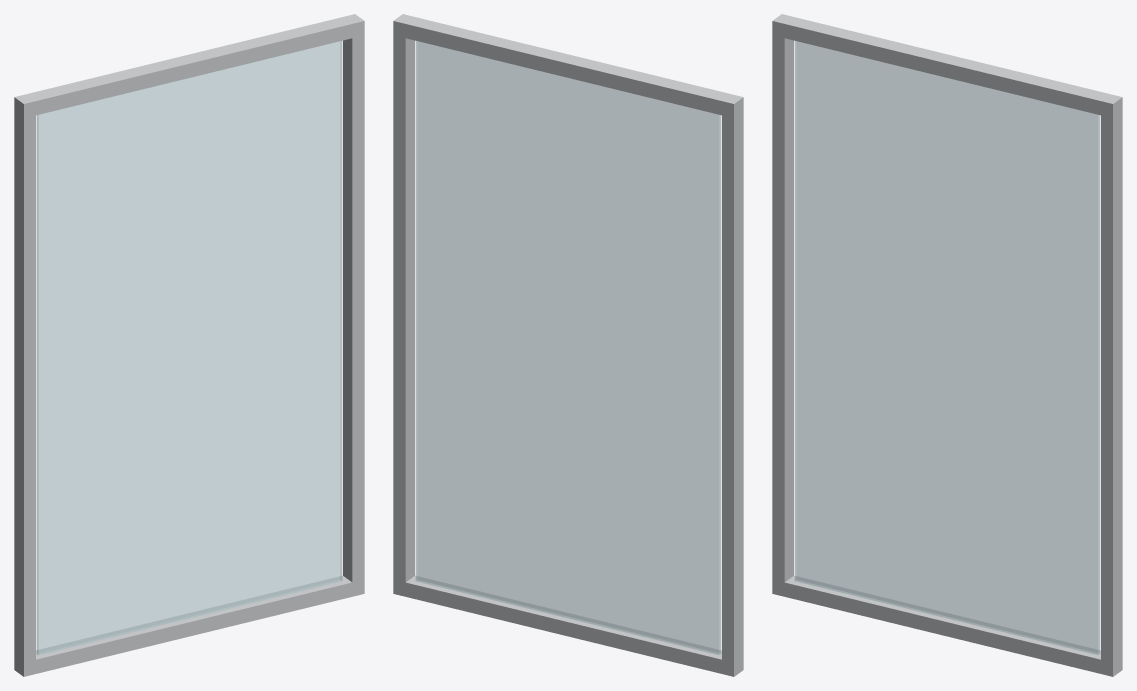
The model's file is division-aluminio-claro.glb.
The picture shows the model from 3 angles, left to right: view 1: azimuth 30°, elevation 25°; view 2: azimuth 150°, elevation 25°; view 3: azimuth 330°, elevation 25°; orthographic projection.
Parts seen in each view (by area): view 1: glass, post-0.6, post0.6, rail1.975, rail0.025; view 2: glass, post-0.6, post0.6, rail1.975, rail0.025; view 3: glass, post0.6, post-0.6, rail1.975, rail0.025.
Boxes of the visible parts, x1,y1,x2,y2 form: glass: (36,41,342,654); post-0.6: (14,94,35,676); post0.6: (343,14,364,596); rail1.975: (21,17,357,116); rail0.025: (36,575,354,673); glass: (415,41,721,654); post-0.6: (722,94,743,676); post0.6: (393,14,414,596); rail1.975: (399,17,736,116); rail0.025: (402,575,727,673); glass: (794,41,1100,654); post0.6: (1101,94,1122,676); post-0.6: (772,14,793,596); rail1.975: (778,17,1115,116); rail0.025: (781,575,1106,673).
Bounding box in the file's own units: 1.25 × 2 × 0.06.
